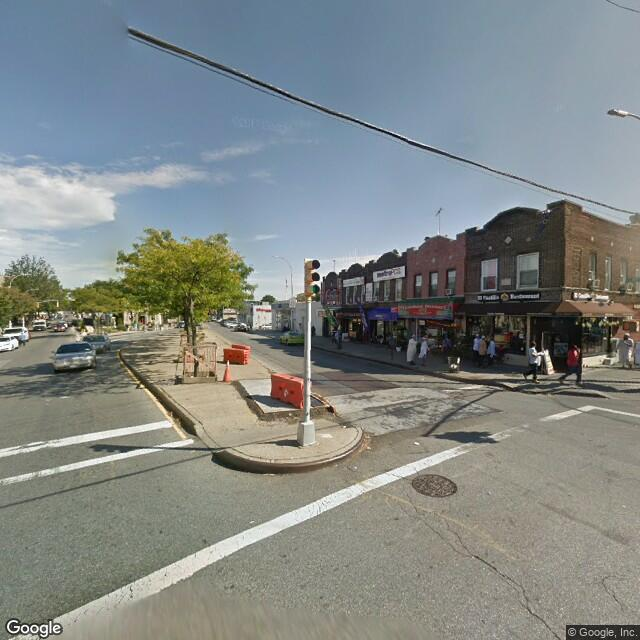litter: (359, 443, 382, 456), (410, 440, 426, 448)
